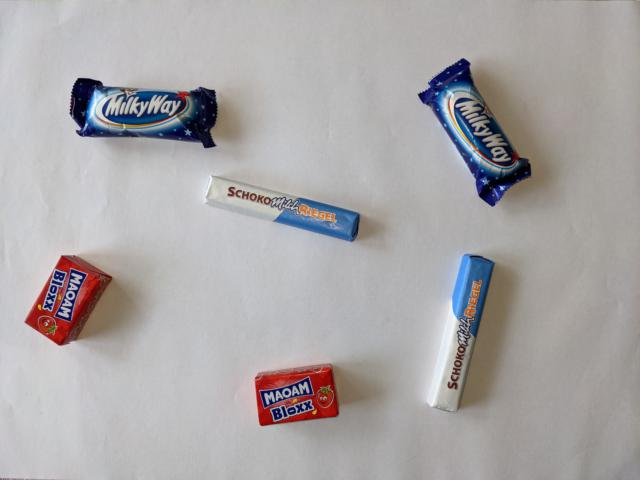MAOAM: (21, 253, 113, 349), (252, 362, 342, 430)
MilkyWay: (415, 56, 534, 210), (67, 75, 220, 151)
Schokoriegel: (422, 252, 496, 418), (199, 172, 363, 244)
